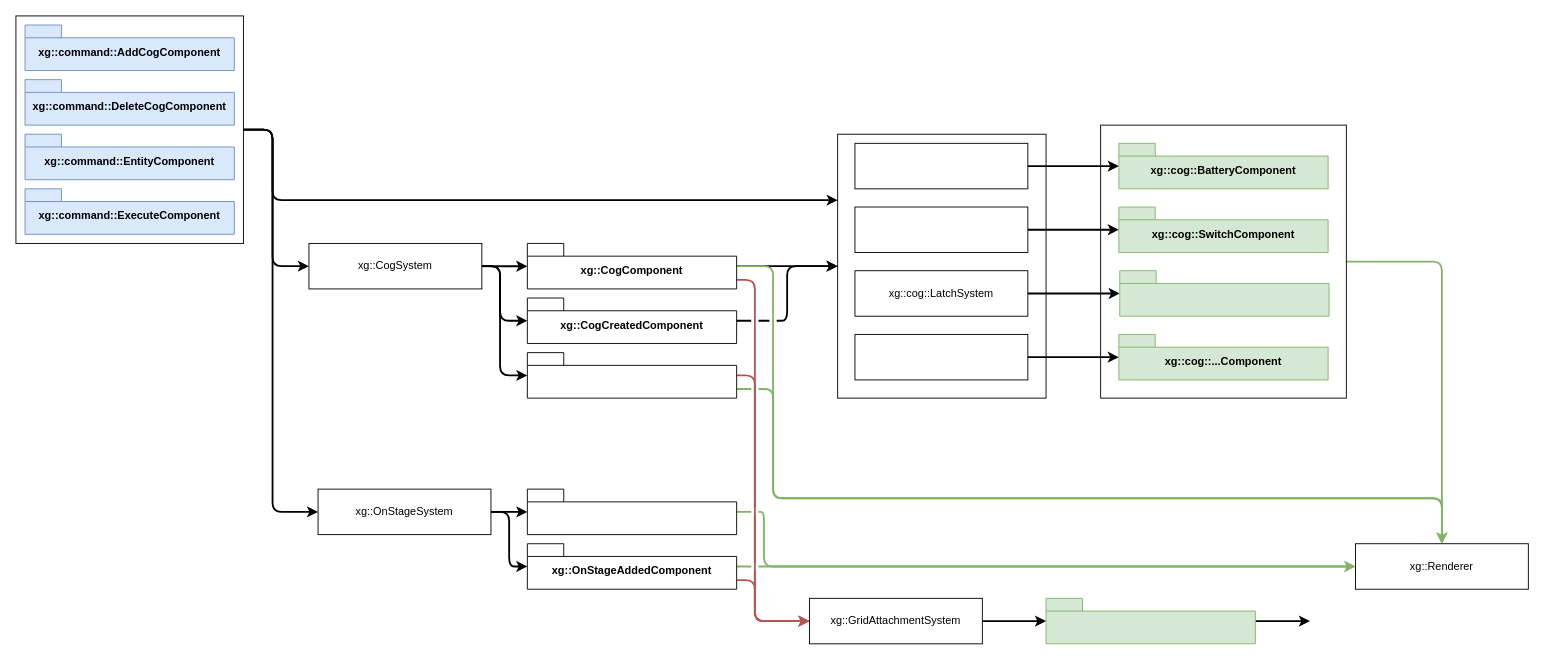
Image size: 1544x660. Some labels were removed from this diagram. Each missing label, with the centre of its shape:
xg::cog::...System: the point at 941,357
xg::cog::BatterySystem: the point at 941,165
xg::cog::LatchComponent: the point at 1224,293
xg::cog::SwitchSystem: the point at 941,229
xg::CogNodesComponent: the point at 631,375
xg::GridAttachmentsComponent: the point at 1150,620
xg::OnStageComponent: the point at 631,511
